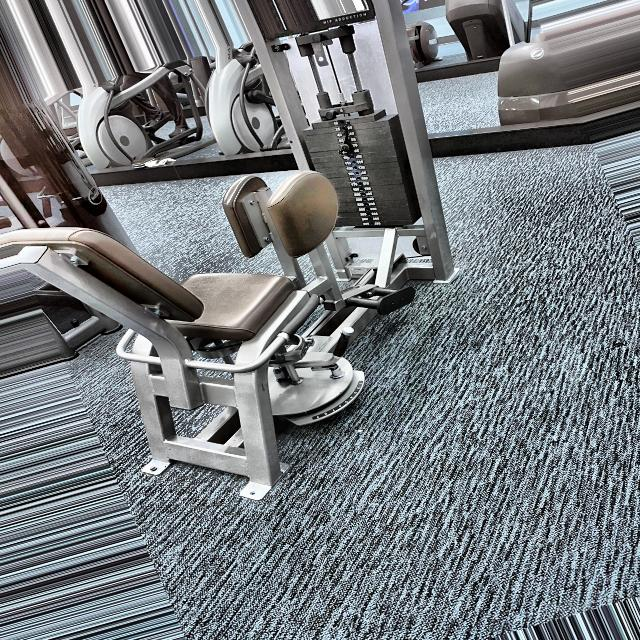hip_adduction_machine: (173, 142, 472, 468), (318, 12, 376, 26)
